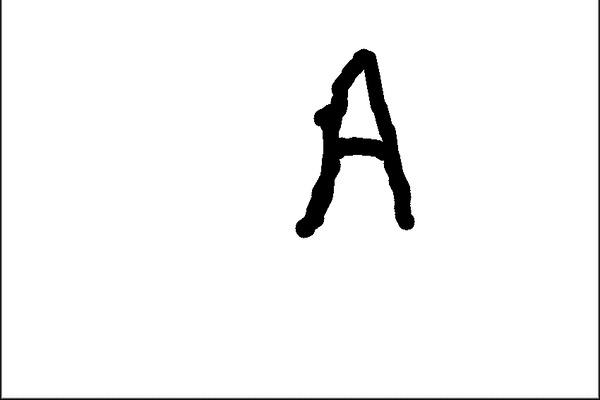A: (281, 40, 422, 250)
